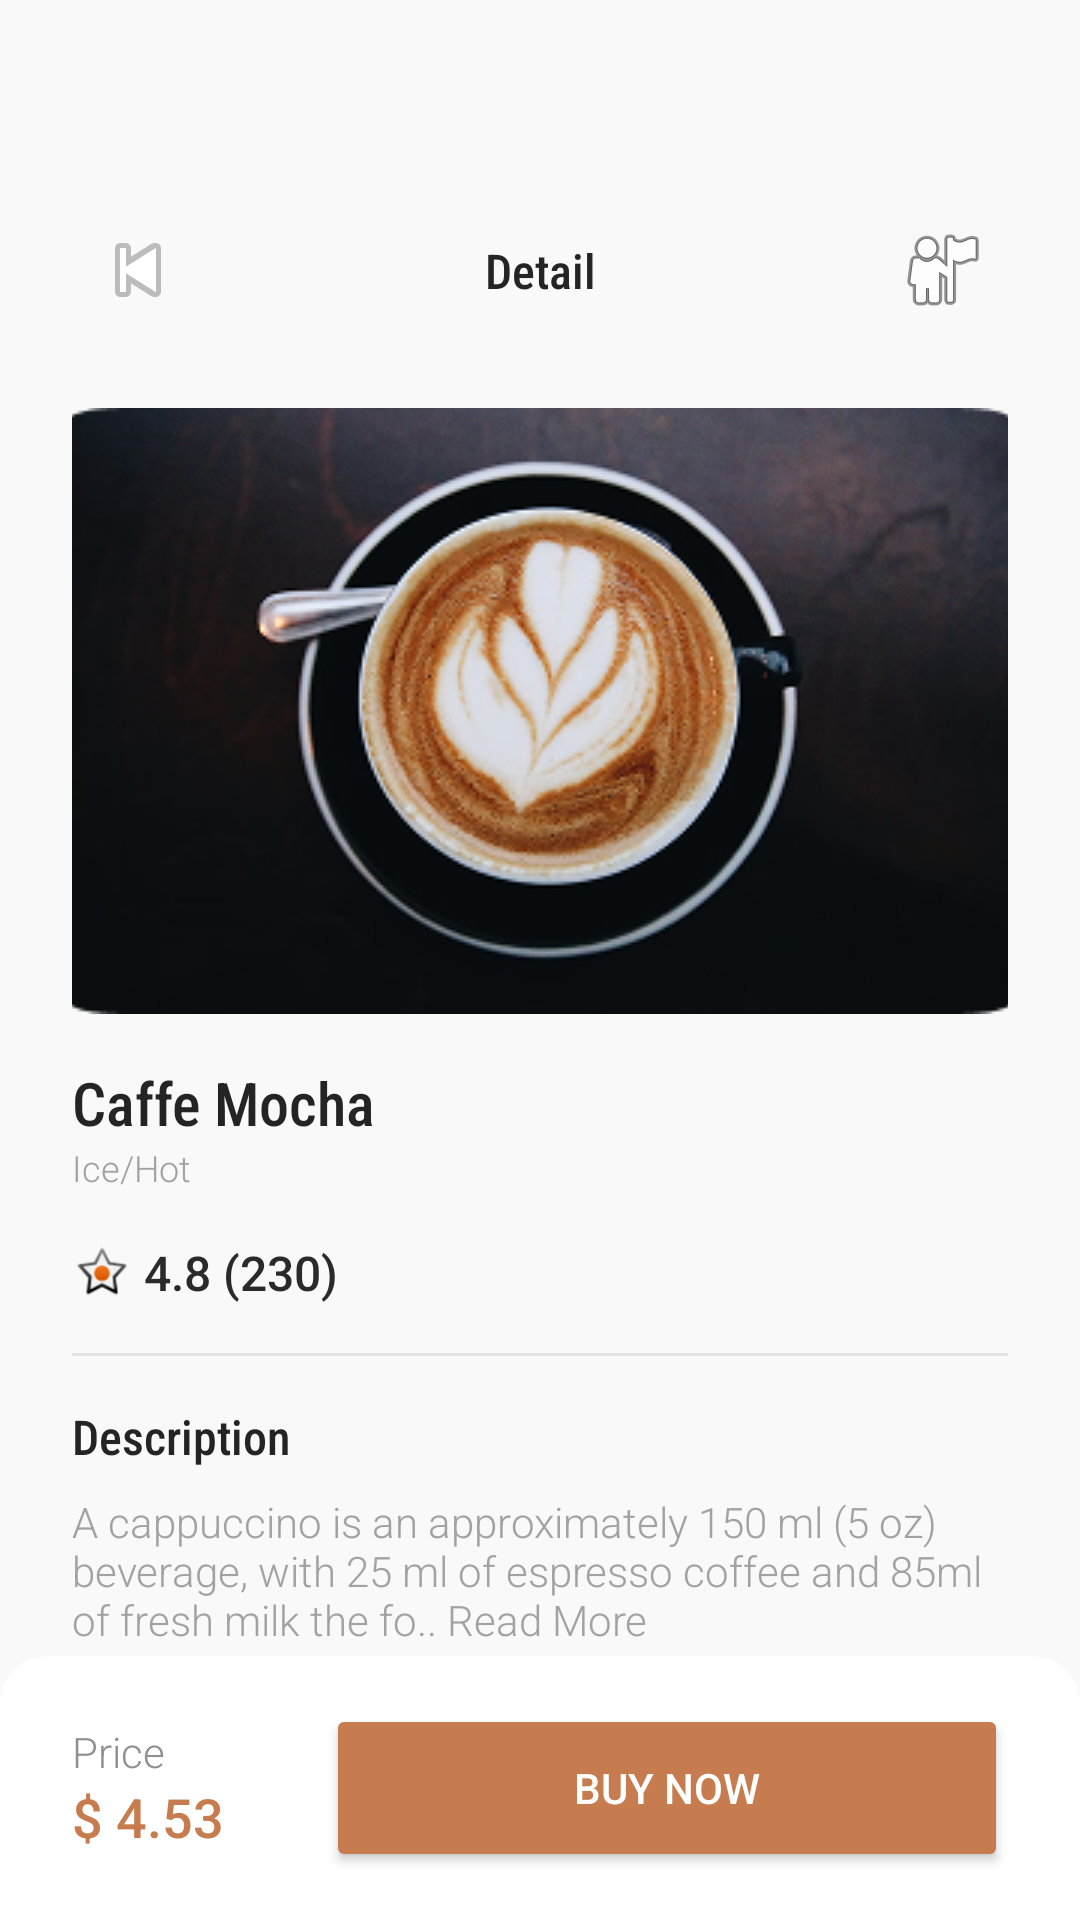

Screen size 1080x1920. Icon name, then its center in pixels as [x,y]:
previous: [138,270]
star on: [102,1271]
